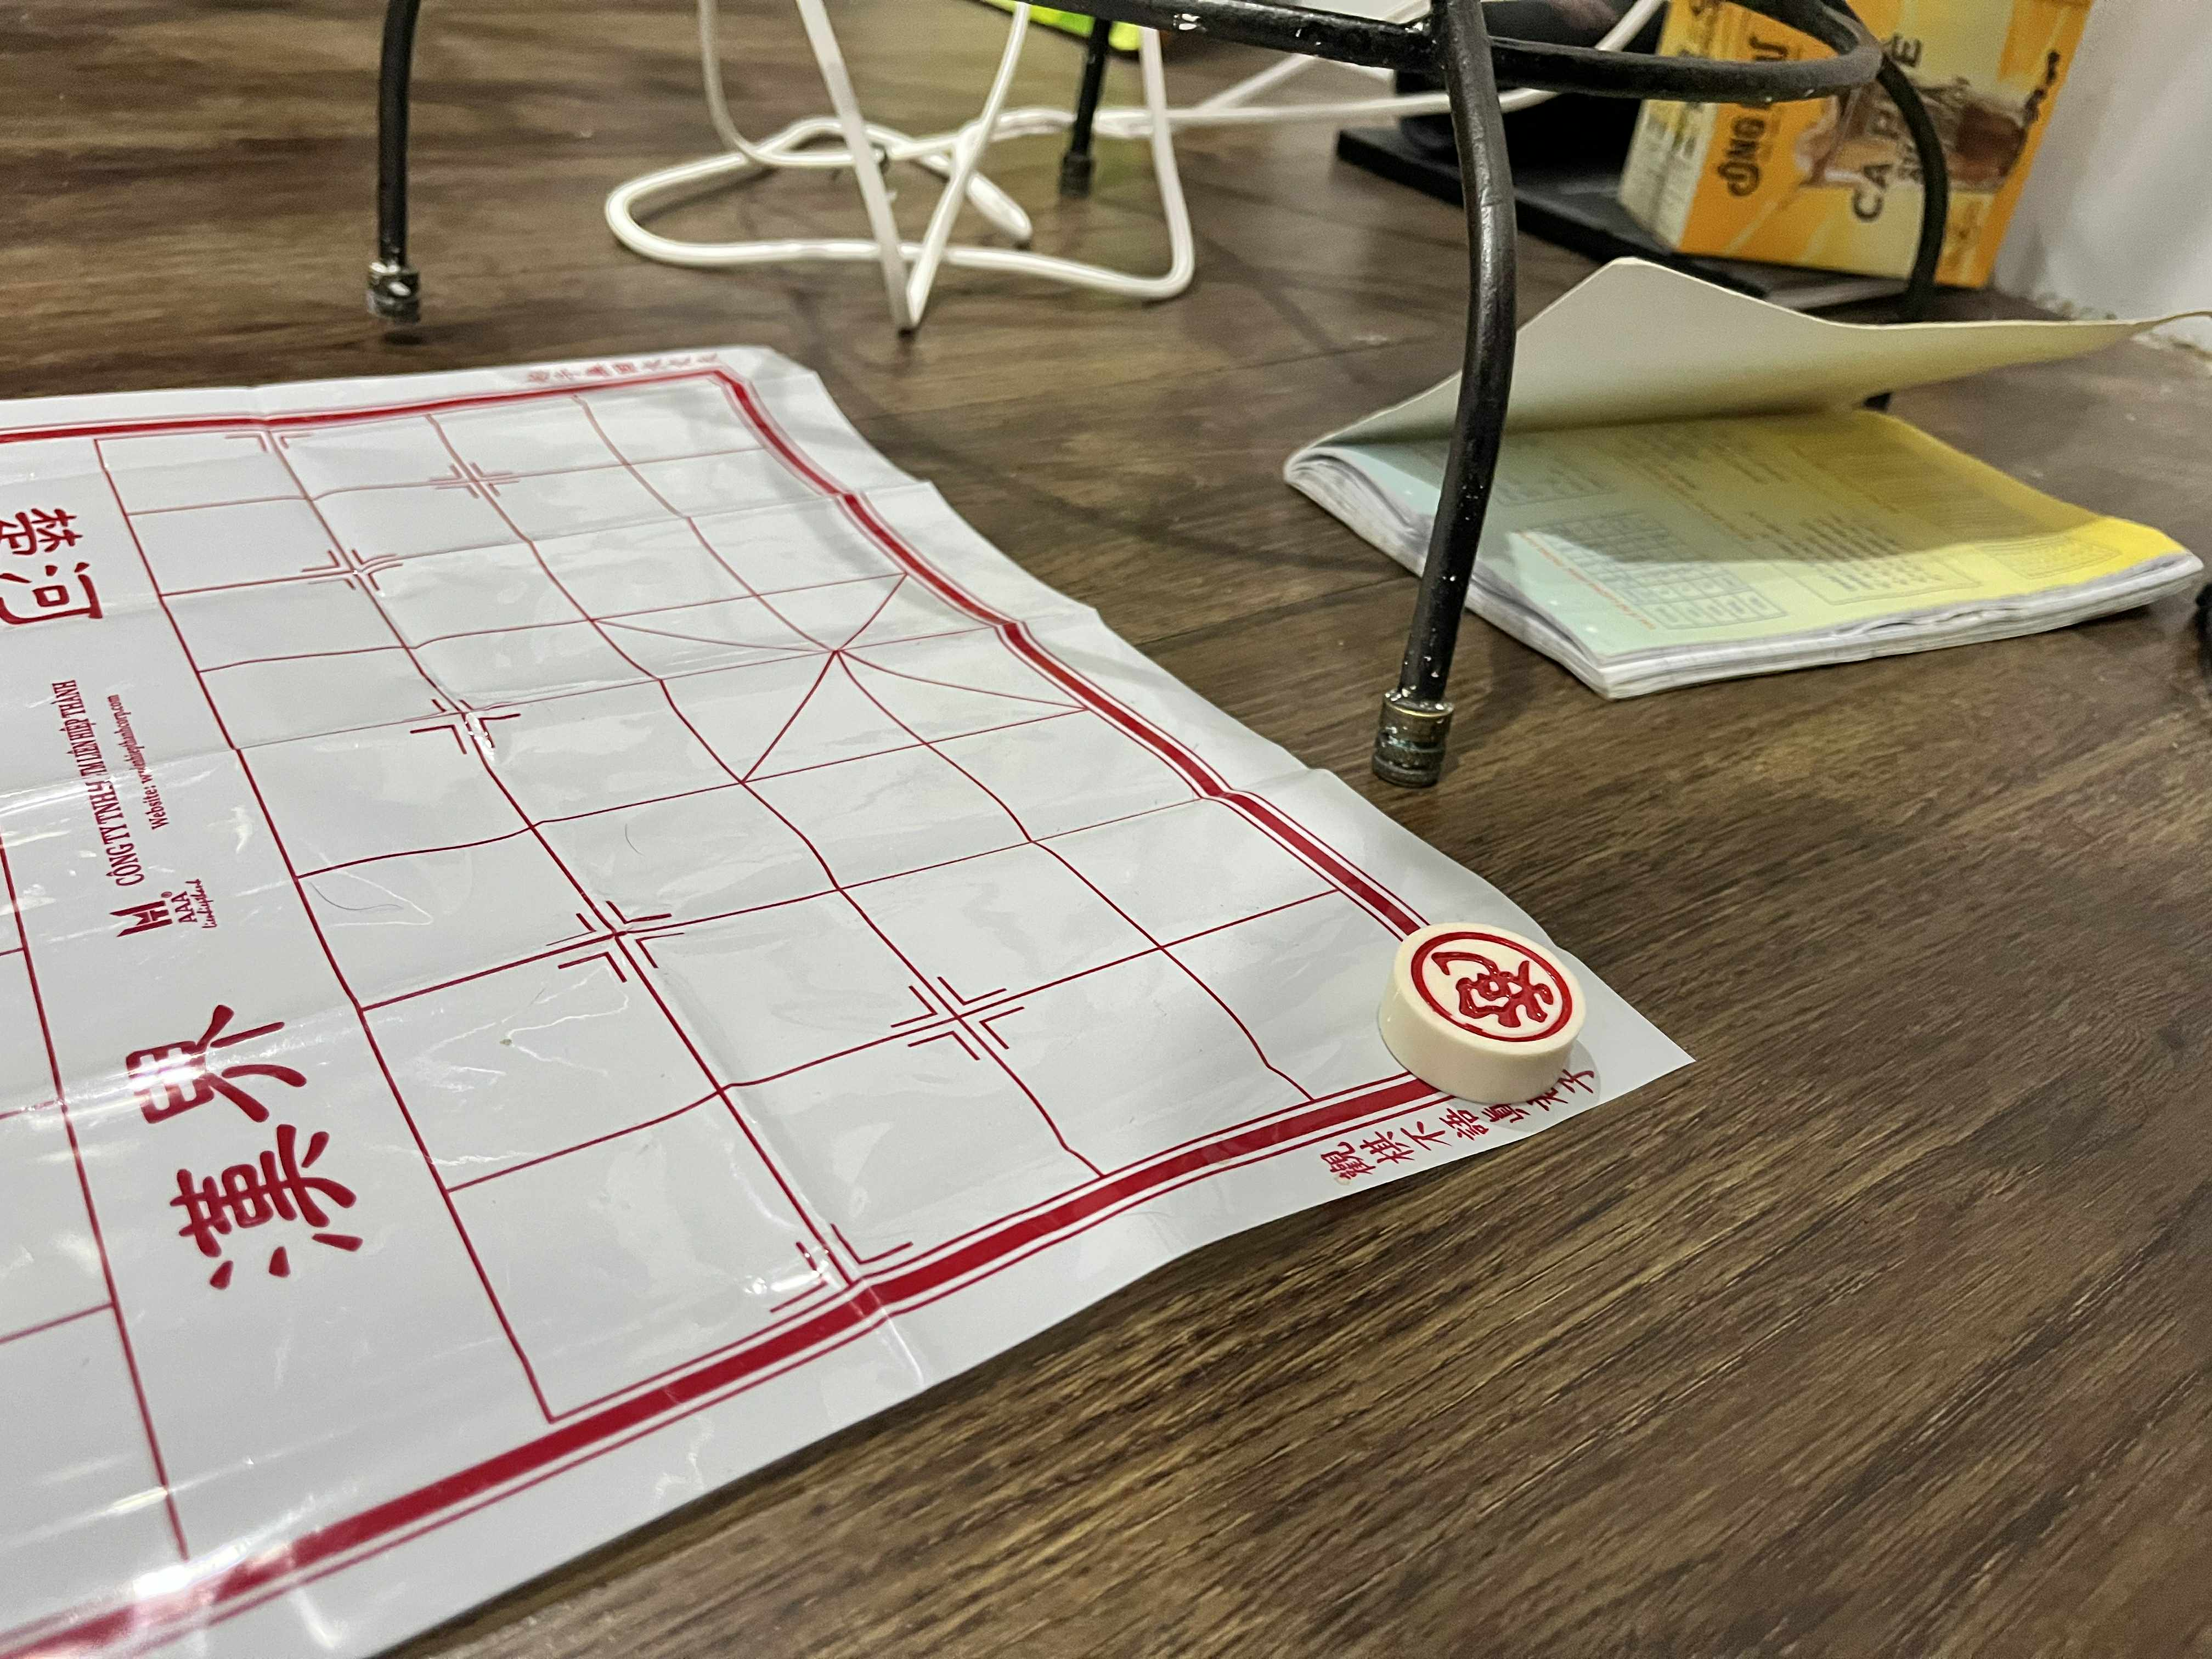red-cannon: (1395, 920, 1587, 1054)
